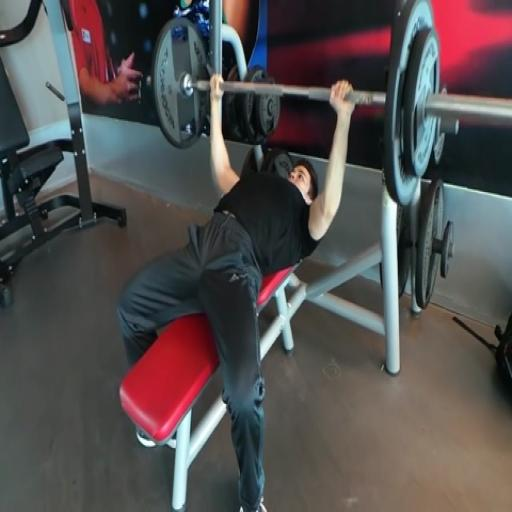exercise: (114, 68, 359, 511)
